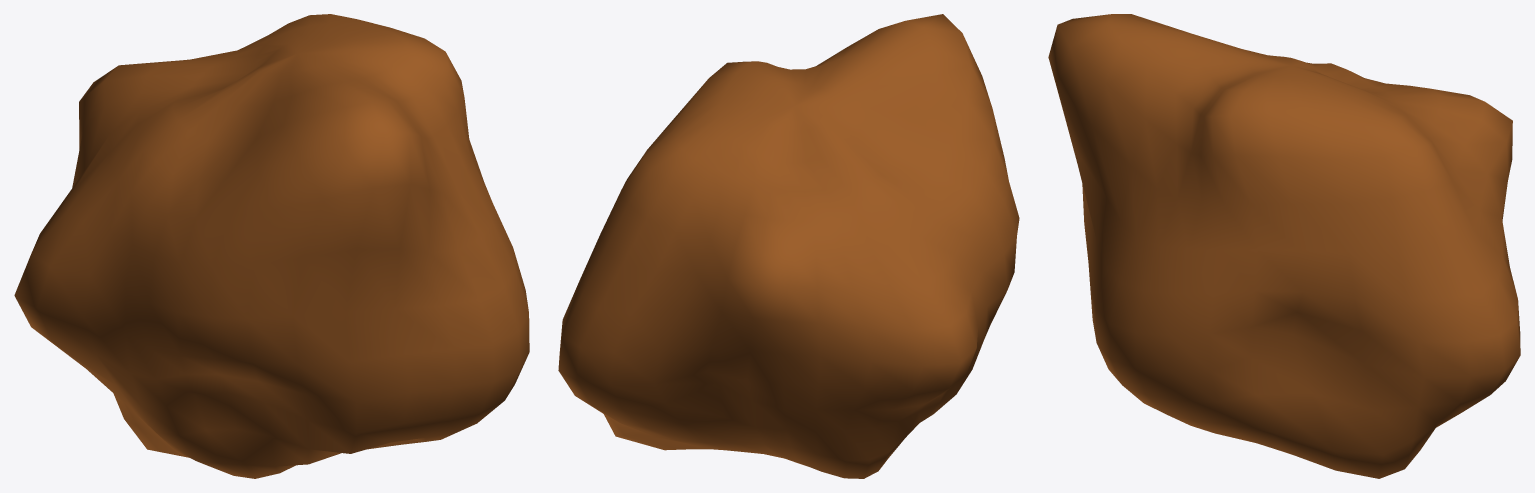
The model's file is Asteroid3.fbx.
3 renders of one model, left to right at view 1: azimuth 30°, elevation 25°; view 2: azimuth 150°, elevation 25°; view 3: azimuth 270°, elevation 25°, orthographic. The views are drawn at different scales.
Visible parts, largest first — view 1: Sphere; view 2: Sphere; view 3: Sphere.
Part boxes in pixels (box(x1,y1,x2,y2)): Sphere: box(14, 14, 529, 478); Sphere: box(558, 14, 1019, 478); Sphere: box(1048, 14, 1520, 478).
Bounding box in the file's own units: 2.38 × 2.31 × 2.57.
